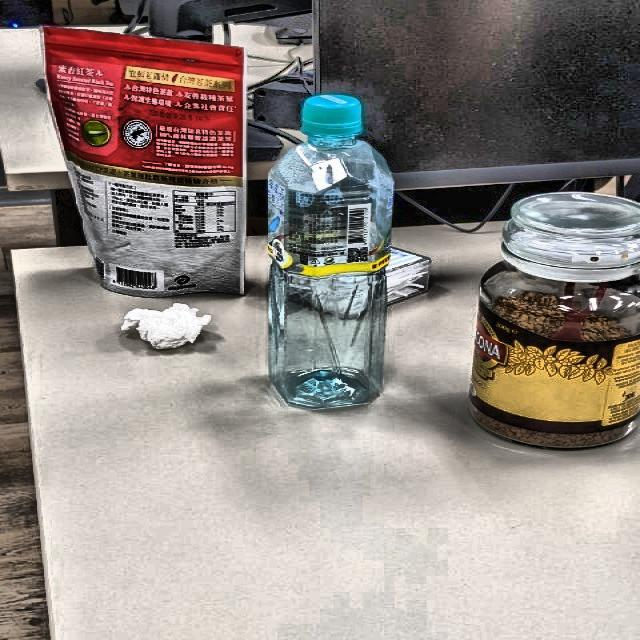plastic: (263, 87, 404, 422)
